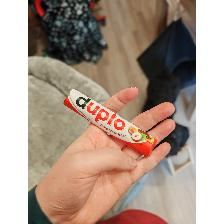Schokolade: (60, 89, 158, 160)
